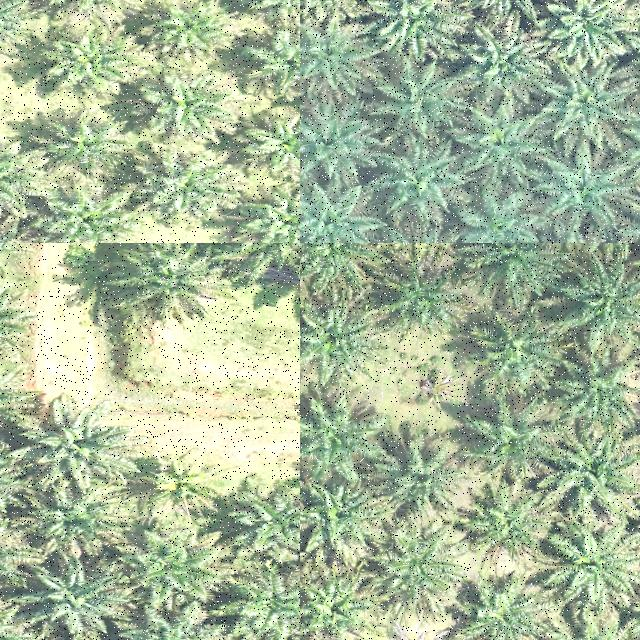Ganoderma: (150, 463, 218, 507)
